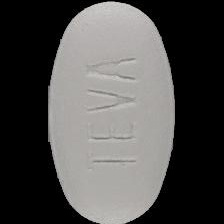55154-6187: (0, 0, 224, 224)
